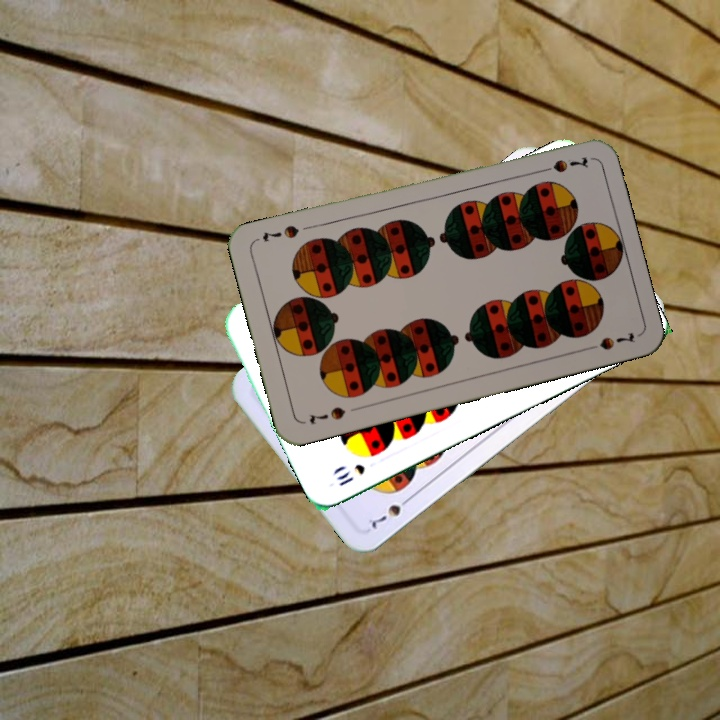S10: (332, 459, 368, 489)
S7: (363, 492, 415, 531), (534, 152, 590, 176), (305, 402, 348, 427)
